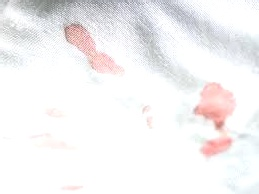blood: (195, 82, 235, 126), (91, 54, 125, 76), (66, 27, 93, 50), (202, 138, 230, 156)
